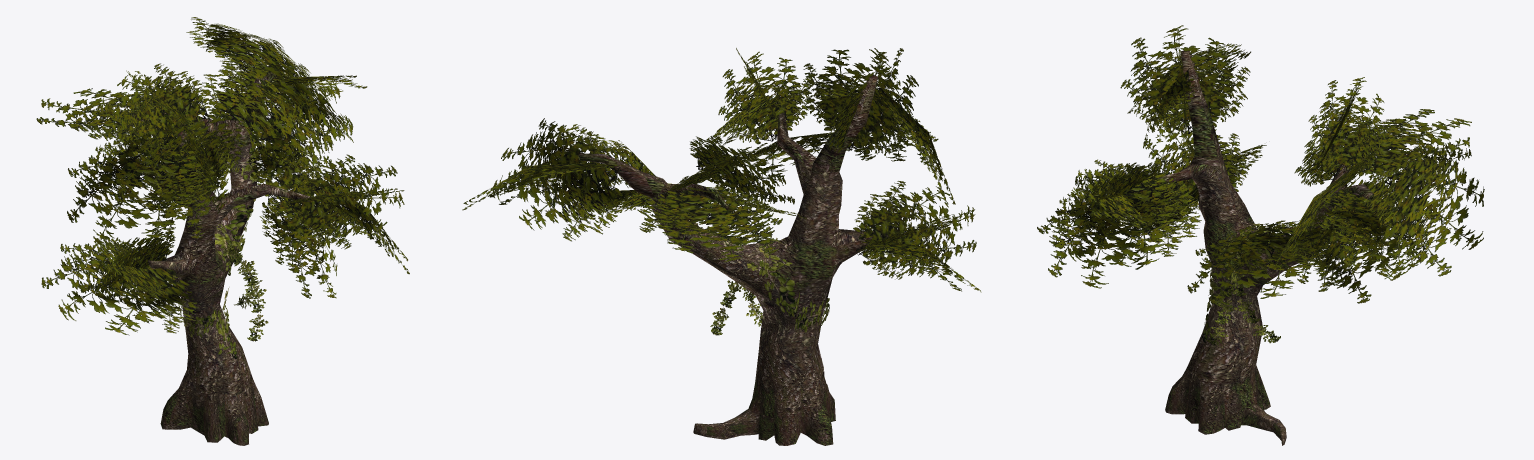
Rendered from BAUMAUSKHORINIS1.glb.
3 renders of one model, left to right at view 1: azimuth 30°, elevation 25°; view 2: azimuth 150°, elevation 25°; view 3: azimuth 270°, elevation 25°, orthographic. The views are drawn at different scales.
Parts seen in each view (by area): view 1: Mesh; view 2: Mesh; view 3: Mesh.
Part boxes in pixels (x1,y1,x2,y2): Mesh: [36, 17, 409, 445]; Mesh: [462, 48, 981, 445]; Mesh: [1037, 25, 1484, 445].
Size of the model in its own units: 17.3 by 15.11 by 18.06.
3 materials, 3 textured.
